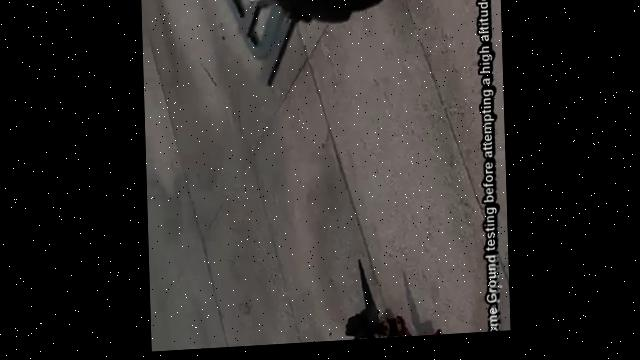drone: (275, 253, 457, 347)
